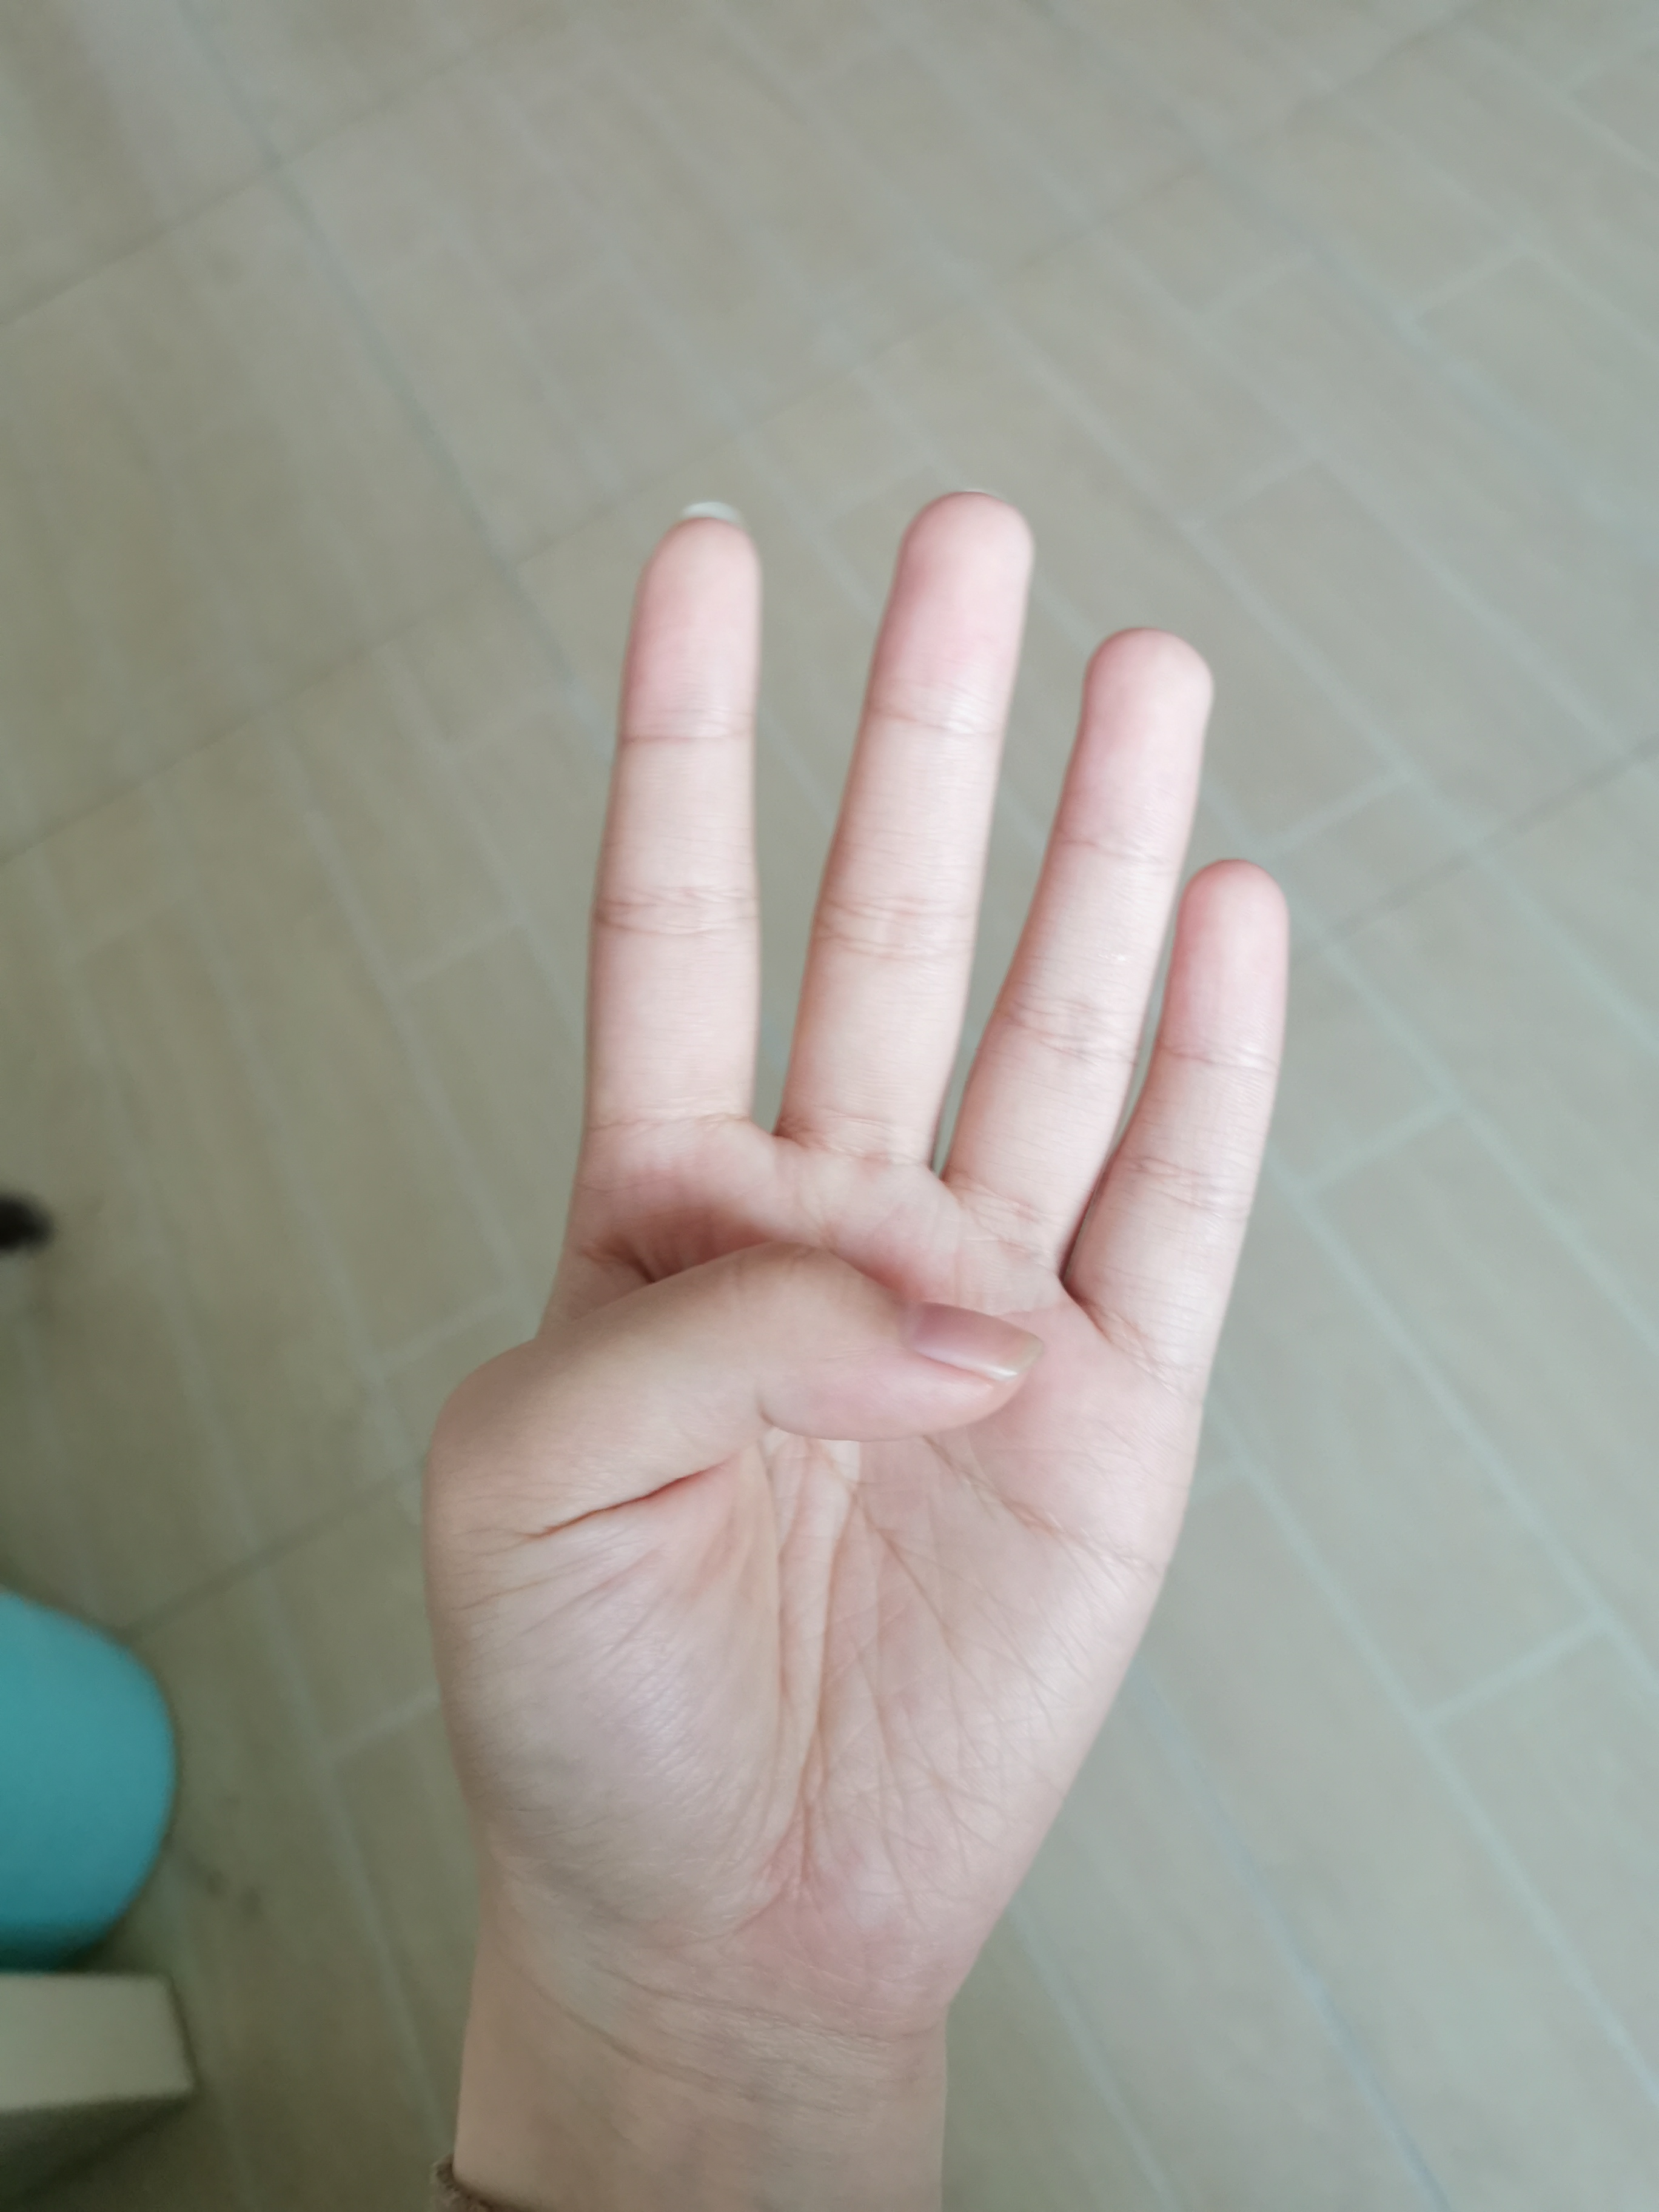right: (418, 453, 1340, 1933)
